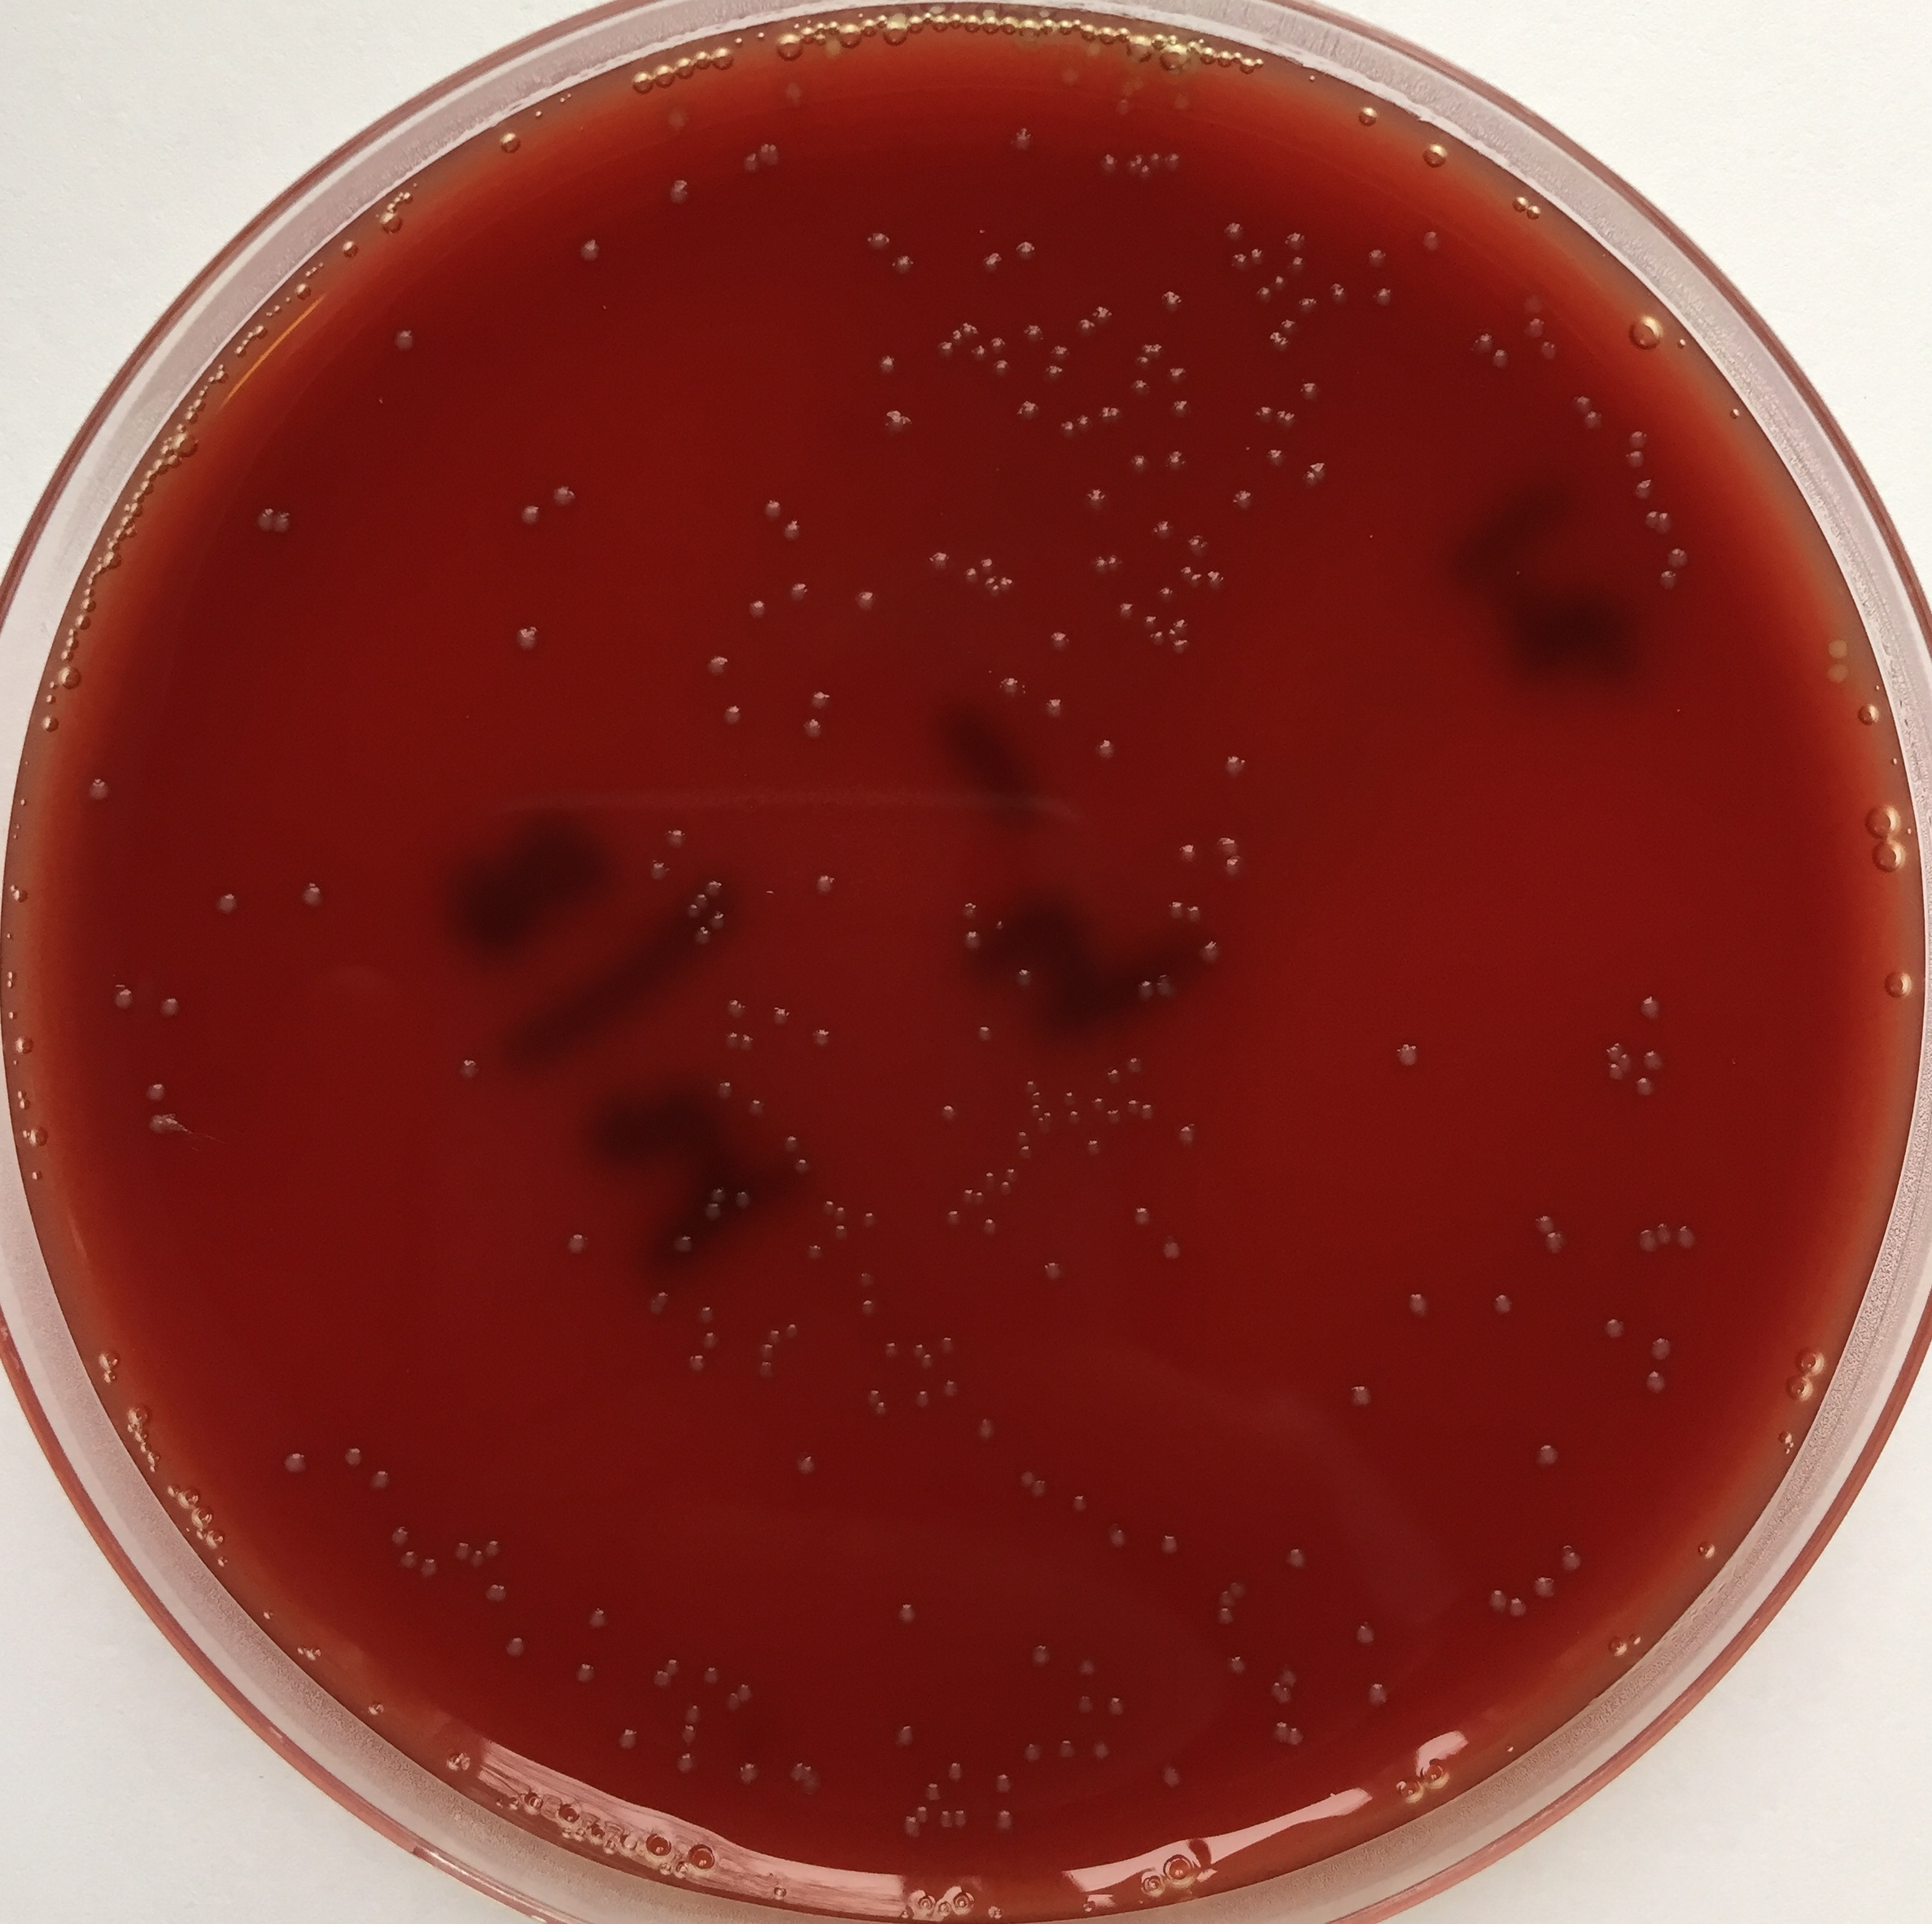sp23: (511, 611, 549, 666), (787, 1443, 826, 1487), (872, 345, 909, 391), (1088, 724, 1124, 772), (558, 1223, 597, 1265), (882, 1711, 921, 1753), (155, 983, 192, 1025), (733, 1748, 764, 1797), (1213, 747, 1256, 782), (576, 227, 611, 268), (206, 888, 241, 929), (916, 544, 951, 583), (659, 102, 696, 137), (146, 1108, 183, 1143), (696, 650, 734, 684), (1486, 1284, 1516, 1327), (567, 1658, 602, 1693), (79, 770, 113, 807), (1532, 1439, 1569, 1473), (296, 879, 328, 918), (1224, 481, 1256, 520), (548, 481, 583, 514), (1157, 1758, 1189, 1795), (949, 892, 988, 921), (812, 865, 840, 906), (107, 978, 139, 1013), (858, 222, 893, 254), (1006, 120, 1037, 155), (278, 1441, 305, 1484), (498, 1635, 534, 1667), (389, 328, 419, 365), (798, 714, 828, 751), (1462, 324, 1492, 361), (1398, 1283, 1428, 1320), (615, 1716, 641, 1757), (1212, 823, 1243, 856), (881, 405, 912, 439), (888, 247, 921, 278), (888, 1593, 923, 1623), (1101, 1517, 1131, 1552), (1395, 1036, 1423, 1073), (416, 1549, 440, 1591), (662, 823, 694, 855), (1009, 398, 1041, 430), (666, 174, 696, 208), (1108, 95, 1141, 125), (743, 594, 771, 629), (997, 671, 1025, 707), (1347, 1380, 1375, 1415), (1351, 1617, 1379, 1653), (956, 925, 983, 962), (393, 1540, 419, 1577), (1374, 280, 1398, 319), (773, 79, 805, 109), (852, 583, 882, 615), (451, 1057, 483, 1087), (986, 1806, 1018, 1836), (1298, 456, 1328, 488), (643, 855, 671, 888), (1636, 990, 1664, 1024), (1155, 1235, 1184, 1269), (981, 243, 1006, 280), (801, 1760, 826, 1797), (1818, 664, 1855, 689), (1041, 696, 1071, 726), (1087, 1735, 1117, 1765), (1155, 287, 1185, 317), (1647, 1330, 1677, 1360), (518, 499, 549, 527), (481, 1580, 512, 1609), (581, 1605, 615, 1632), (1027, 1640, 1053, 1674), (1420, 224, 1446, 257), (365, 1466, 400, 1491), (1293, 375, 1328, 400), (1633, 1069, 1655, 1106), (935, 1098, 963, 1128), (669, 1750, 699, 1778), (1155, 1533, 1185, 1561), (1821, 631, 1849, 661), (761, 137, 787, 169), (778, 516, 810, 543), (697, 1325, 724, 1357), (1014, 234, 1039, 268), (988, 1769, 1013, 1802), (1073, 1690, 1097, 1723), (1363, 1674, 1388, 1707), (1643, 1367, 1668, 1401), (722, 699, 745, 735), (1095, 150, 1118, 185), (1219, 855, 1245, 884), (1067, 1491, 1094, 1521), (1537, 340, 1564, 370), (1619, 449, 1648, 476), (1557, 1542, 1583, 1572), (273, 506, 298, 537), (139, 1082, 171, 1106), (447, 1533, 472, 1565), (1677, 1225, 1701, 1256), (810, 1025, 833, 1059), (1169, 85, 1192, 118), (1161, 444, 1184, 477), (1485, 1584, 1508, 1617), (785, 578, 812, 606), (1194, 936, 1220, 964), (706, 1073, 733, 1101), (1125, 379, 1152, 407), (1217, 215, 1245, 241), (1265, 328, 1291, 356), (1358, 243, 1386, 270), (1097, 400, 1127, 425), (1326, 277, 1351, 307), (1633, 476, 1657, 506), (1548, 1232, 1573, 1262), (1506, 1595, 1530, 1624), (1536, 1572, 1560, 1602), (379, 1521, 410, 1543), (1055, 1732, 1078, 1764), (1106, 1691, 1129, 1723), (1280, 226, 1312, 248), (1287, 1543, 1307, 1580), (254, 500, 275, 534), (773, 995, 794, 1029), (741, 1027, 763, 1061), (1492, 349, 1513, 382), (972, 1018, 999, 1045), (1527, 1209, 1553, 1235), (340, 1439, 365, 1468), (676, 1721, 704, 1746), (1020, 1737, 1044, 1765), (1169, 395, 1194, 423), (1273, 405, 1302, 430), (1083, 479, 1106, 509), (1013, 966, 1037, 992), (1074, 1656, 1101, 1681), (780, 1129, 805, 1156), (972, 1413, 997, 1439), (1161, 146, 1187, 171), (1284, 252, 1310, 277), (1583, 407, 1608, 433), (697, 1663, 726, 1686), (701, 1200, 724, 1228), (1021, 321, 1044, 349), (1522, 312, 1545, 340), (988, 354, 1009, 384), (1076, 409, 1097, 439), (1622, 426, 1652, 448), (984, 573, 1000, 611), (1641, 1045, 1666, 1069), (1162, 897, 1187, 921), (1652, 567, 1677, 592), (1601, 1313, 1626, 1337), (807, 689, 833, 712), (706, 906, 729, 932), (740, 1676, 763, 1702), (1226, 1651, 1249, 1677), (669, 1232, 696, 1254), (683, 1353, 710, 1376), (1178, 1121, 1201, 1147), (1168, 361, 1191, 388), (1127, 449, 1150, 476), (1294, 292, 1321, 315), (1666, 544, 1689, 571), (1057, 63, 1078, 92), (683, 1695, 704, 1723), (1185, 532, 1213, 553), (1145, 624, 1166, 652), (1265, 444, 1286, 472), (1654, 1217, 1675, 1246), (898, 1815, 918, 1845), (1030, 1475, 1050, 1505), (822, 41, 845, 65), (1280, 1661, 1303, 1686), (856, 1269, 879, 1293), (1173, 608, 1196, 633), (1083, 39, 1106, 63), (1050, 625, 1071, 652), (752, 1341, 784, 1358), (1633, 1226, 1654, 1253), (1155, 971, 1175, 999), (997, 574, 1025, 594), (1132, 1200, 1152, 1228), (1252, 398, 1272, 426), (696, 1304, 729, 1320), (724, 1686, 741, 1716), (1277, 1681, 1294, 1711), (484, 1535, 507, 1558), (1071, 319, 1094, 342), (1601, 1059, 1622, 1084), (1213, 1605, 1235, 1630), (881, 1337, 902, 1362), (1150, 516, 1171, 541), (757, 499, 784, 518), (1175, 839, 1194, 865), (664, 1654, 690, 1674), (921, 1778, 940, 1804), (942, 1205, 962, 1232), (942, 1374, 962, 1401), (1228, 252, 1247, 278), (1115, 597, 1134, 624), (992, 911, 1009, 939), (1641, 509, 1659, 537), (1599, 1036, 1620, 1059), (648, 1670, 671, 1691), (743, 1096, 766, 1117), (831, 1219, 852, 1242), (1050, 342, 1071, 365), (1057, 418, 1078, 440), (722, 1025, 741, 1050), (1102, 1059, 1122, 1084), (470, 1549, 490, 1573), (731, 1184, 750, 1209), (1064, 1106, 1083, 1131), (861, 1205, 881, 1230), (1039, 363, 1064, 382), (1203, 567, 1228, 587), (1567, 391, 1592, 411), (741, 146, 757, 176), (763, 879, 780, 906), (1124, 1048, 1141, 1075), (1136, 976, 1154, 1003), (1185, 899, 1203, 925), (937, 1330, 955, 1357), (962, 321, 979, 347), (704, 874, 726, 895), (724, 995, 745, 1017), (784, 1762, 805, 1783), (1106, 548, 1122, 576), (1104, 1106, 1124, 1129), (854, 1299, 877, 1318), (1094, 301, 1113, 324), (946, 1758, 963, 1783), (912, 1385, 930, 1410), (1661, 504, 1675, 534), (937, 1808, 953, 1834), (1173, 636, 1189, 662), (752, 1357, 773, 1376), (914, 1802, 932, 1825), (1014, 1466, 1032, 1489), (1289, 1725, 1307, 1748), (784, 1318, 801, 1341), (1085, 1136, 1102, 1159), (988, 333, 1006, 356), (1277, 315, 1300, 333), (1273, 1718, 1287, 1746), (953, 1804, 969, 1829), (1043, 1258, 1058, 1283), (696, 929, 715, 948), (793, 1158, 812, 1177), (833, 1202, 852, 1221), (1131, 352, 1148, 374), (1247, 243, 1265, 264), (1270, 277, 1291, 294), (963, 564, 979, 587), (977, 553, 1000, 569), (918, 1350, 933, 1373), (974, 1186, 988, 1210), (949, 322, 962, 351), (1092, 551, 1106, 576), (1231, 1579, 1249, 1598), (1217, 1587, 1236, 1605), (999, 1179, 1016, 1198), (690, 893, 712, 909), (1125, 1096, 1141, 1117), (983, 1219, 999, 1240), (805, 1240, 821, 1262), (1147, 150, 1162, 171), (1139, 1099, 1154, 1122), (1141, 342, 1164, 356), (708, 1184, 726, 1202), (1090, 1092, 1108, 1110), (970, 345, 988, 363), (1620, 1054, 1636, 1073), (956, 1184, 972, 1203), (1254, 287, 1270, 307), (935, 340, 949, 361), (766, 1327, 782, 1344), (1014, 1126, 1030, 1143), (1132, 144, 1148, 162), (1189, 573, 1205, 590), (1143, 610, 1161, 625), (685, 902, 699, 921), (655, 1288, 669, 1307), (1060, 1089, 1080, 1103), (1029, 1099, 1043, 1119), (875, 1401, 889, 1420), (1155, 583, 1175, 597), (865, 1387, 877, 1408), (1004, 1166, 1020, 1182), (981, 1168, 997, 1184), (1016, 1143, 1034, 1158), (1122, 160, 1136, 178), (1178, 562, 1192, 580), (1023, 1091, 1046, 1101), (1138, 160, 1150, 180), (1266, 1679, 1280, 1695), (819, 1196, 833, 1212), (911, 1339, 923, 1357), (648, 1297, 659, 1316), (1021, 1078, 1036, 1092), (1043, 1110, 1057, 1122)
